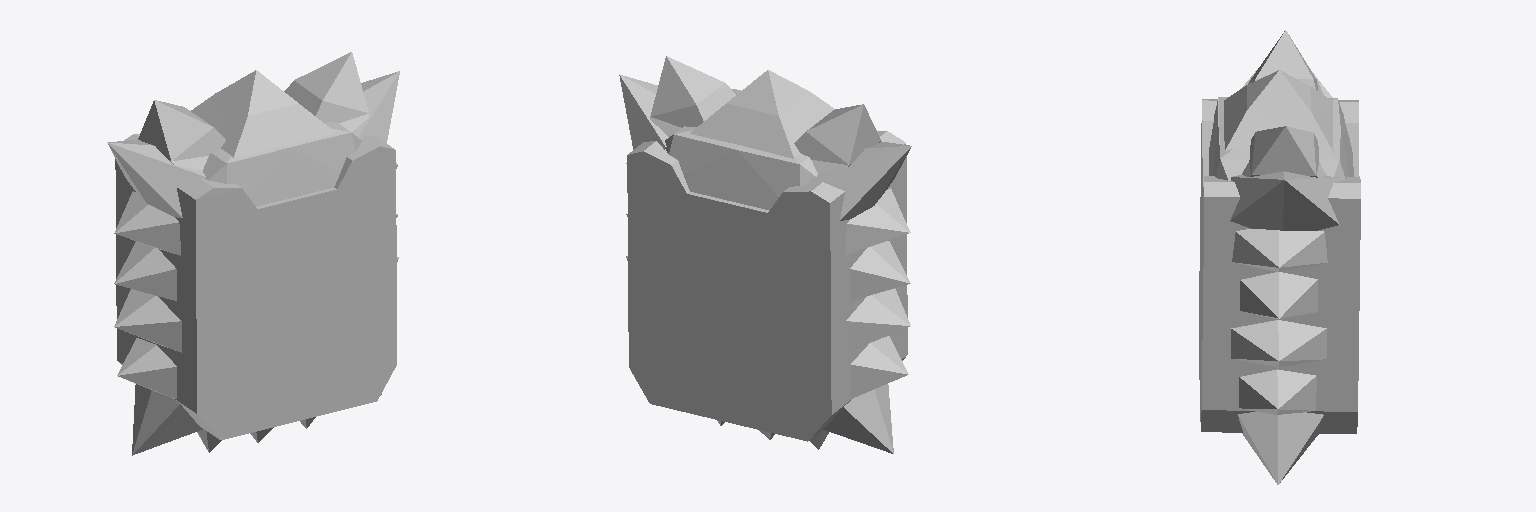
Rendered from Thwomp-Classic [Sm64].obj.
3 views of the same model, side by side, from view 1: azimuth 30°, elevation 25°; view 2: azimuth 150°, elevation 25°; view 3: azimuth 270°, elevation 25° (orthographic).
Parts seen in each view (by area): view 1: Face, Spike; view 2: Face, Spike; view 3: Spike, Face.
Part boxes in pixels (left/top/right/bottom): Face: left=115, top=122, right=396, bottom=439; Spike: left=107, top=52, right=399, bottom=455; Face: left=627, top=89, right=907, bottom=441; Spike: left=619, top=56, right=911, bottom=453; Spike: left=1224, top=30, right=1340, bottom=484; Face: left=1199, top=97, right=1360, bottom=433.
Bounding box in the file's own units: 0.4014 × 0.4874 × 0.1924.